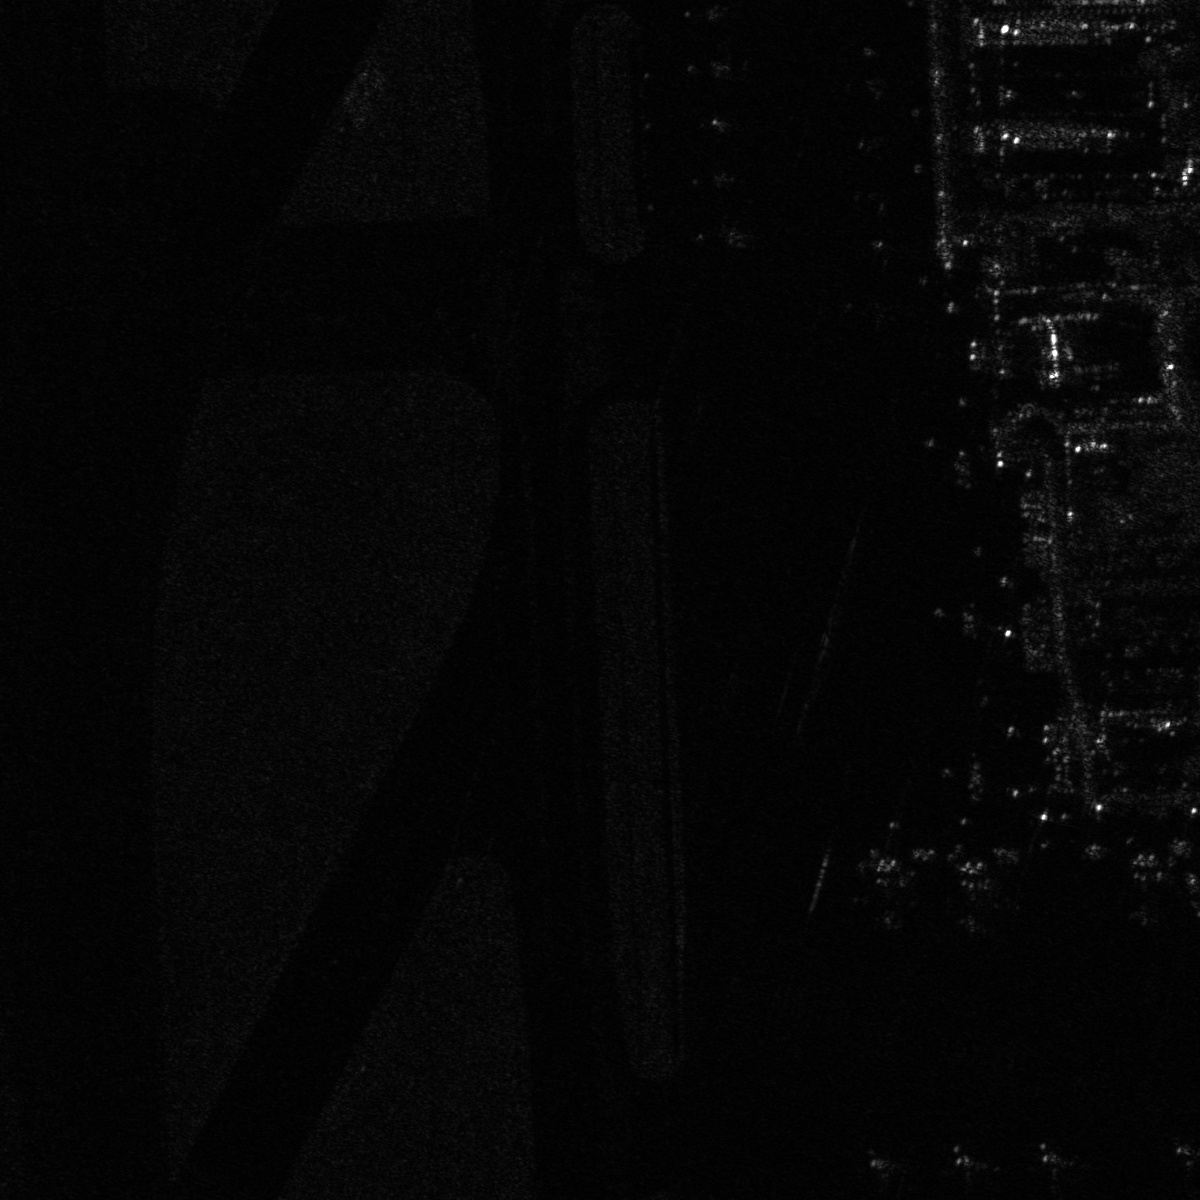A320/321: (843, 846, 924, 929)
Boeing737: (932, 857, 1024, 938), (1114, 846, 1178, 925)
other: (938, 1142, 999, 1199), (1022, 1140, 1078, 1199), (856, 1145, 908, 1199), (1160, 1132, 1199, 1196)
